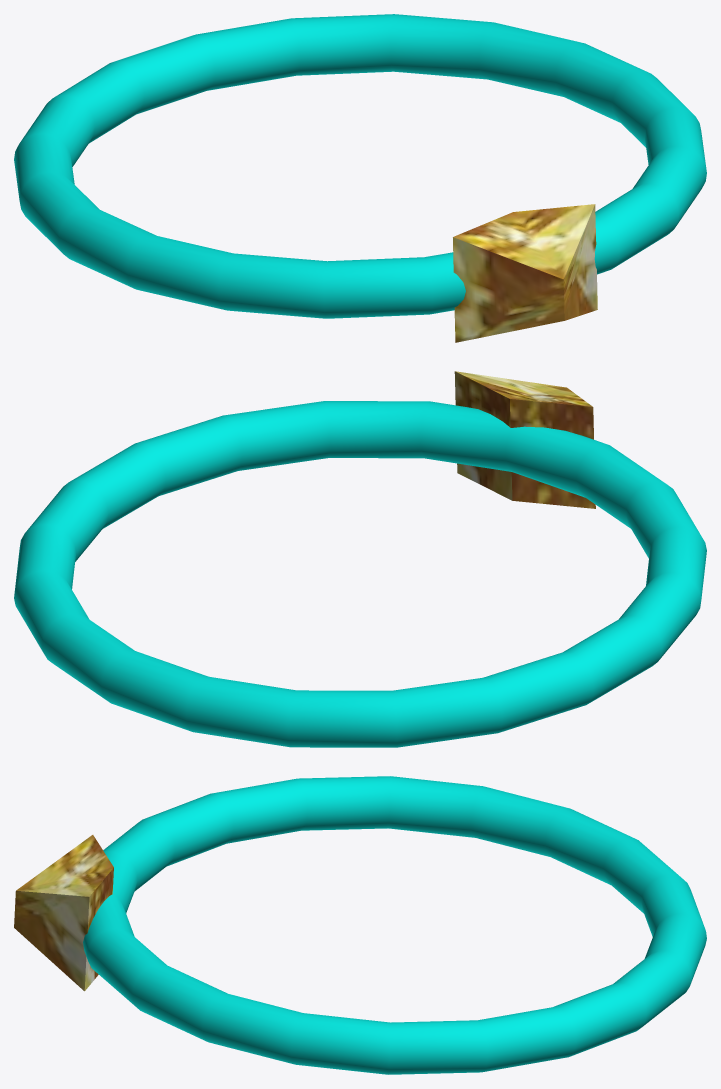
The model's file is ring.fbx.
3 views of the same model, one above another, from view 1: azimuth 30°, elevation 25°; view 2: azimuth 150°, elevation 25°; view 3: azimuth 270°, elevation 25° (orthographic). The views are drawn at different scales.
Visible parts, largest first — view 1: pTorus2; view 2: pTorus2; view 3: pTorus2.
Boxes of the visible parts, box(x1,y1,x2,y2) form: pTorus2: box(14, 14, 706, 342); pTorus2: box(14, 371, 706, 747); pTorus2: box(14, 776, 706, 1074).
Bounding box in the file's own units: 0.9314 × 0.1549 × 1.02.
